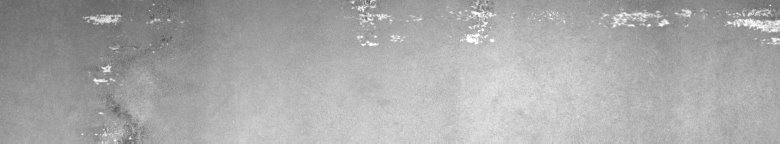hc: (82, 4, 188, 136)
